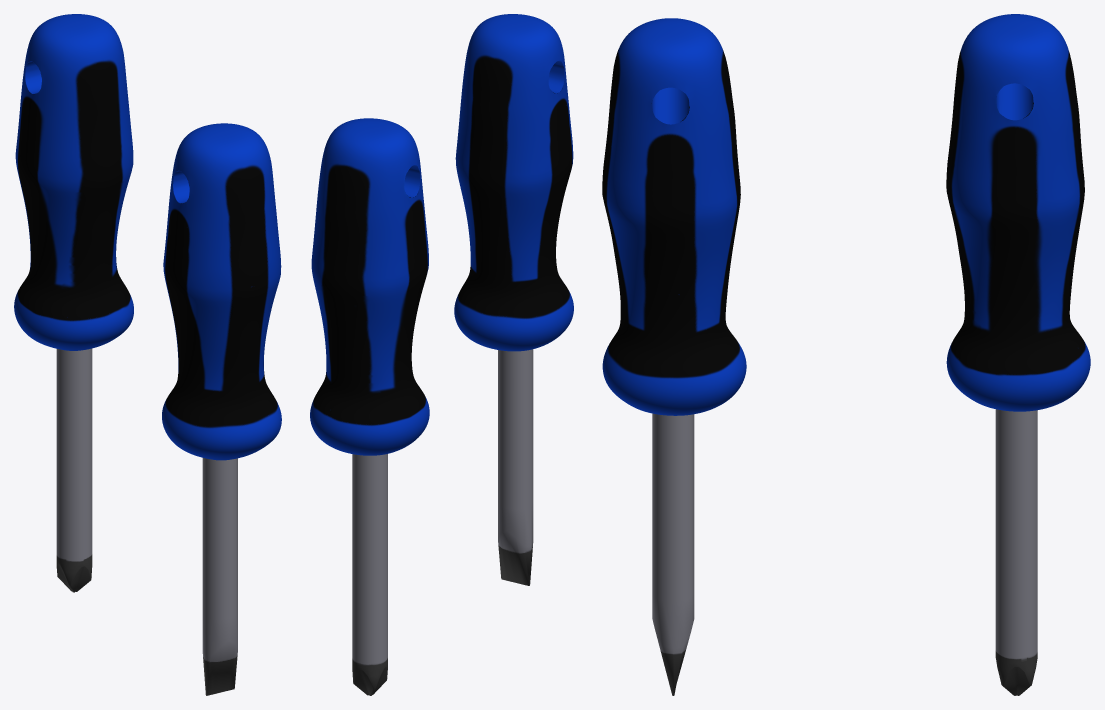
The model's file is Csavarhúzók.fbx.
3 views of the same model, side by side, from view 1: azimuth 30°, elevation 25°; view 2: azimuth 150°, elevation 25°; view 3: azimuth 270°, elevation 25° (orthographic). The views are drawn at different scales.
Visible parts, largest first — view 1: Csavarhuz:csillag, Csavarhuz_lapos; view 2: Csavarhuz:csillag, Csavarhuz_lapos; view 3: Csavarhuz:csillag, Csavarhuz_lapos.
Boxes of the visible parts, left/top/right/bottom form: Csavarhuz:csillag: left=14, top=14, right=133, bottom=592; Csavarhuz_lapos: left=162, top=123, right=281, bottom=695; Csavarhuz:csillag: left=310, top=118, right=429, bottom=695; Csavarhuz_lapos: left=454, top=14, right=573, bottom=585; Csavarhuz:csillag: left=946, top=14, right=1090, bottom=695; Csavarhuz_lapos: left=602, top=18, right=746, bottom=695.
Size of the model in its own units: 180 by 948 by 627.
3 materials, 3 textured.
